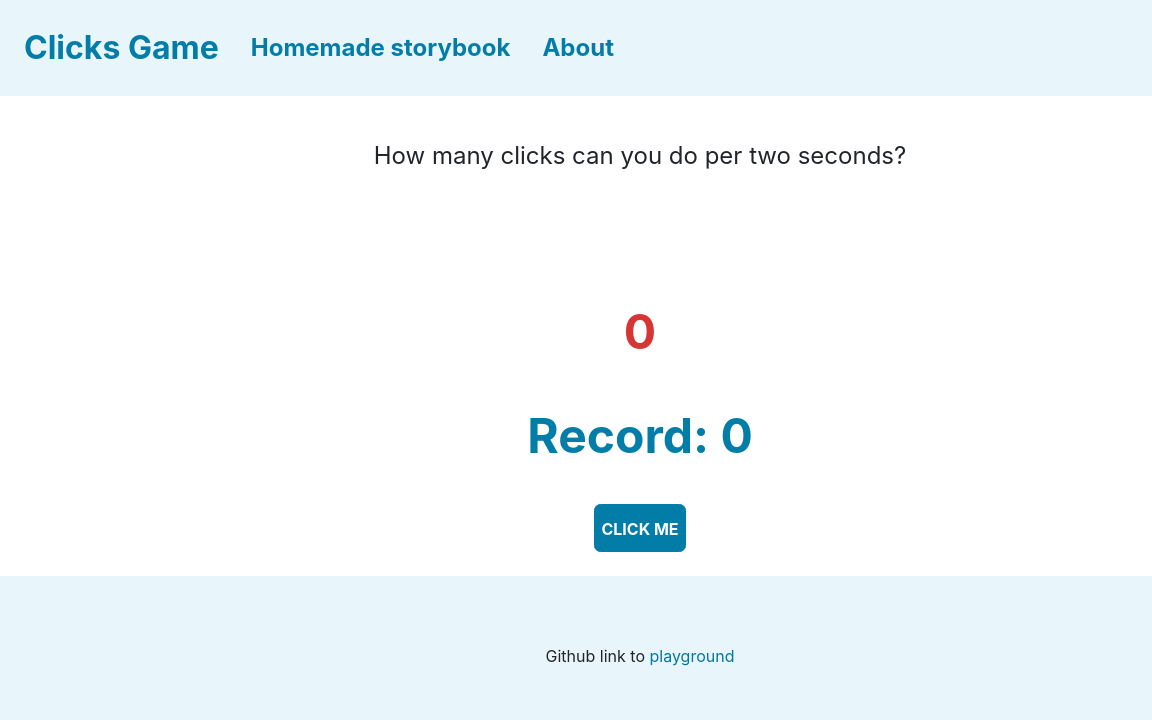
Clicks Game › change current points when button was clicked
Step 1. Click the button "Click me" → (640,528), box [594,504,686,552]
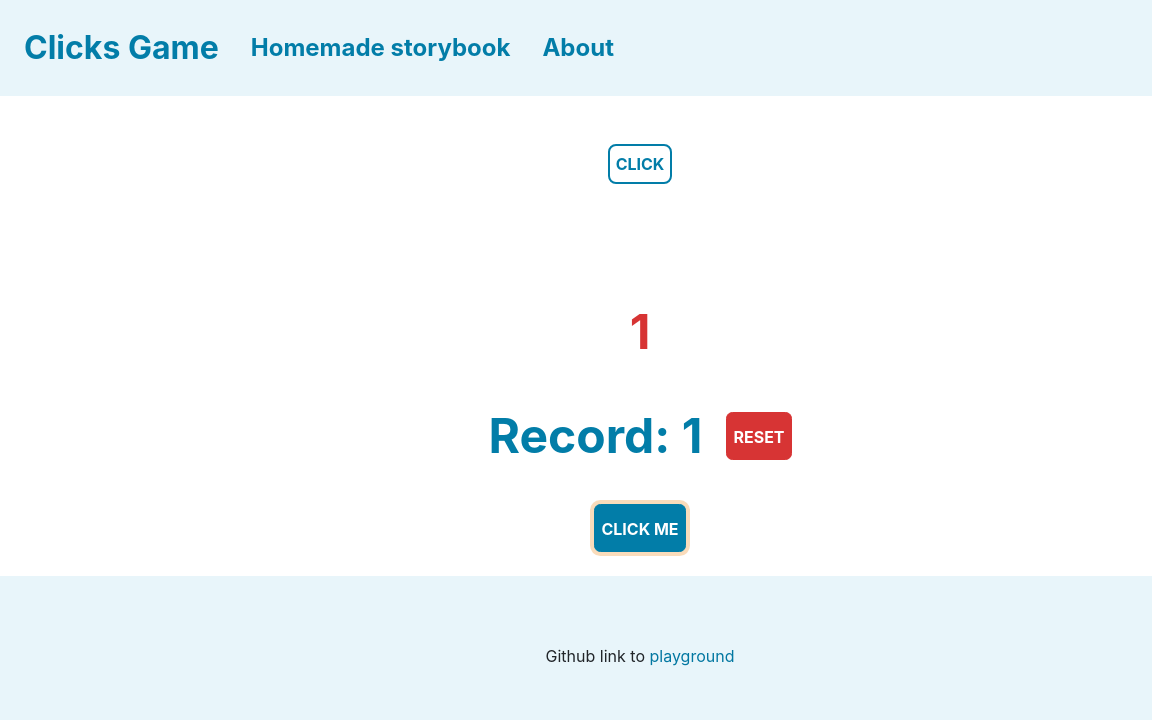
Step 2. Click the button "Click me" → (640,528), box [594,504,686,552]
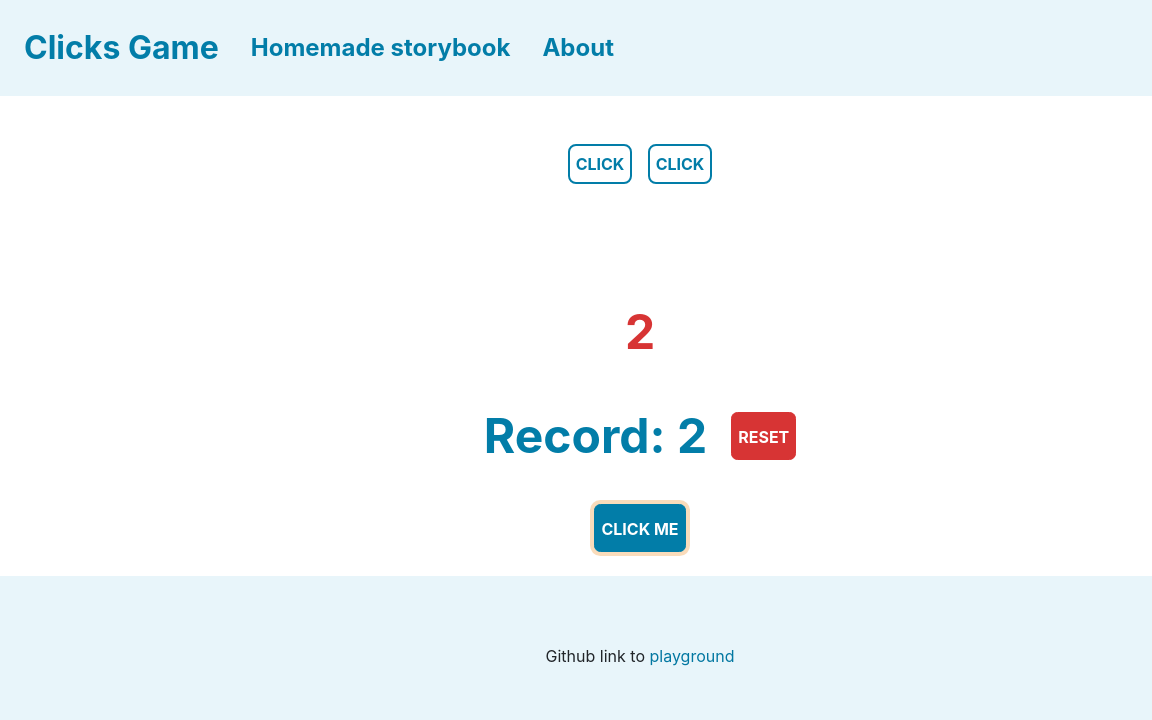
Expected: the text with test id "current-points" reads "2", [625,302,655,361]
